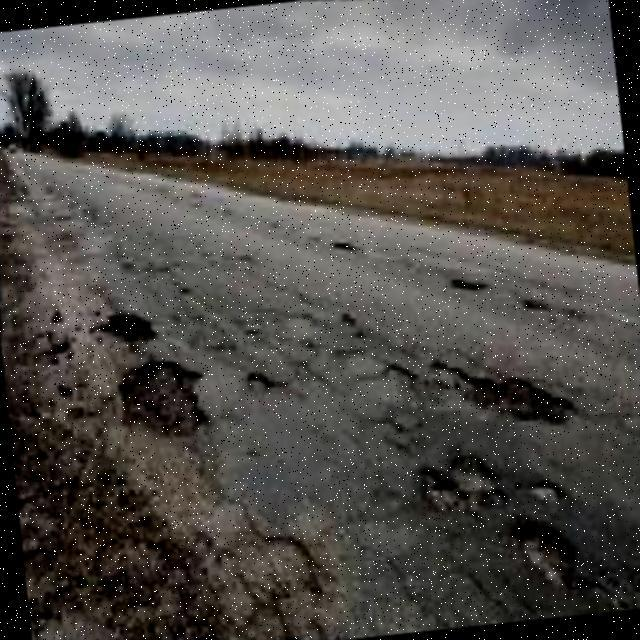Pothole: (441, 368, 579, 427), (119, 359, 207, 443), (421, 457, 497, 513), (514, 520, 572, 588), (98, 314, 158, 353)
